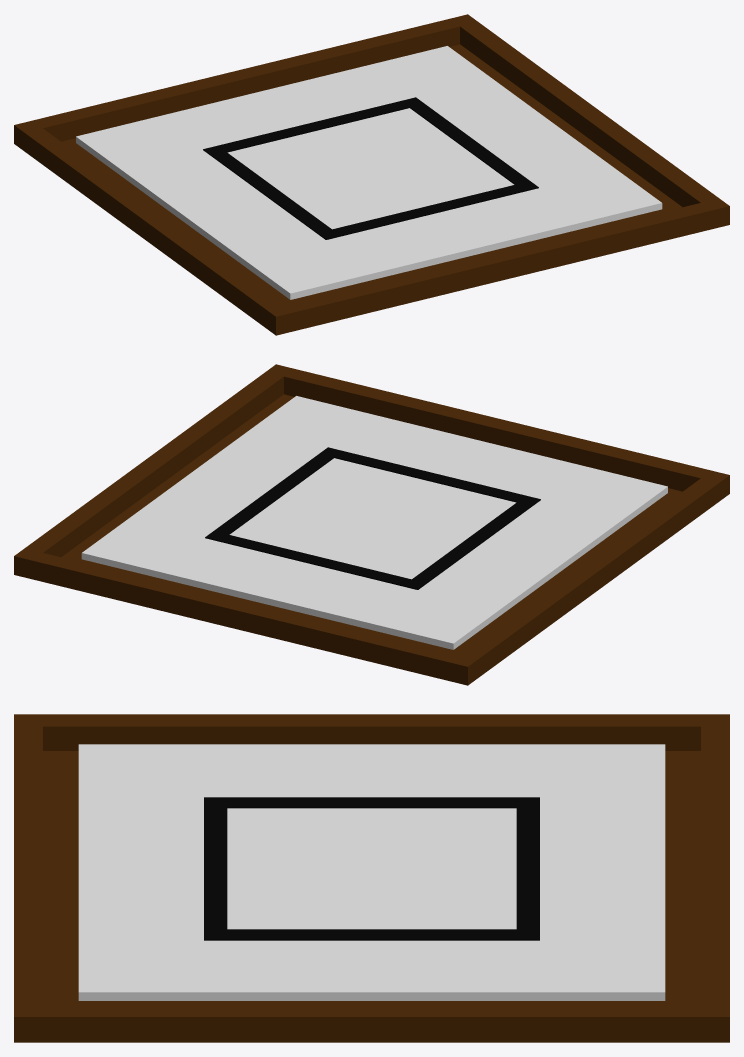
File: church_2kvadrat.fbx
3 renders of one model, top to bottom at view 1: azimuth 30°, elevation 25°; view 2: azimuth 150°, elevation 25°; view 3: azimuth 270°, elevation 25°, orthographic. The views are drawn at different scales.
Visible parts, largest first — view 1: BijelaPozadina, Okvir, Kvadrat; view 2: BijelaPozadina, Okvir, Kvadrat; view 3: BijelaPozadina, Okvir, Kvadrat.
Boxes of the visible parts, left/top/right/bottom form: BijelaPozadina: left=76, top=46, right=662, bottom=299; Okvir: left=14, top=14, right=729, bottom=335; Kvadrat: left=203, top=97, right=538, bottom=239; BijelaPozadina: left=81, top=396, right=667, bottom=649; Okvir: left=14, top=364, right=729, bottom=685; Kvadrat: left=205, top=447, right=540, bottom=589; BijelaPozadina: left=78, top=744, right=665, bottom=1000; Okvir: left=14, top=714, right=729, bottom=1042; Kvadrat: left=204, top=797, right=539, bottom=940.
Bounding box in the file's own units: 200 × 7.91 × 200.
